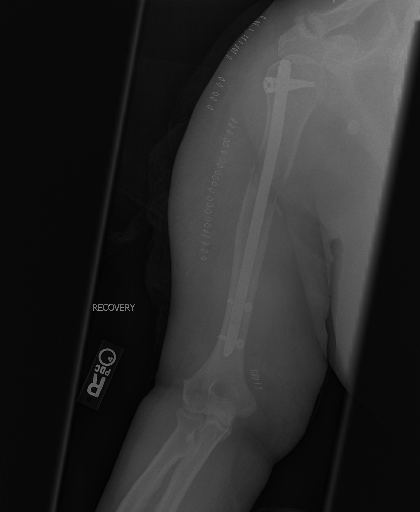implant: (261, 50, 318, 147), (216, 284, 261, 365)
